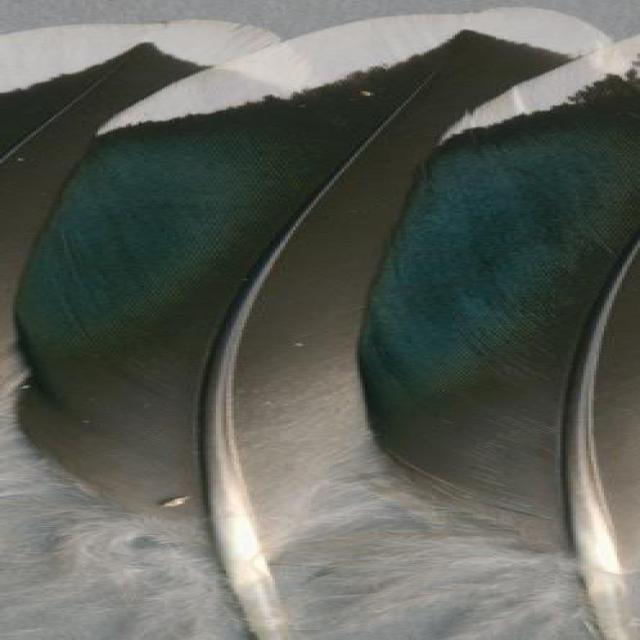feather: (12, 4, 608, 640), (347, 39, 640, 640)
